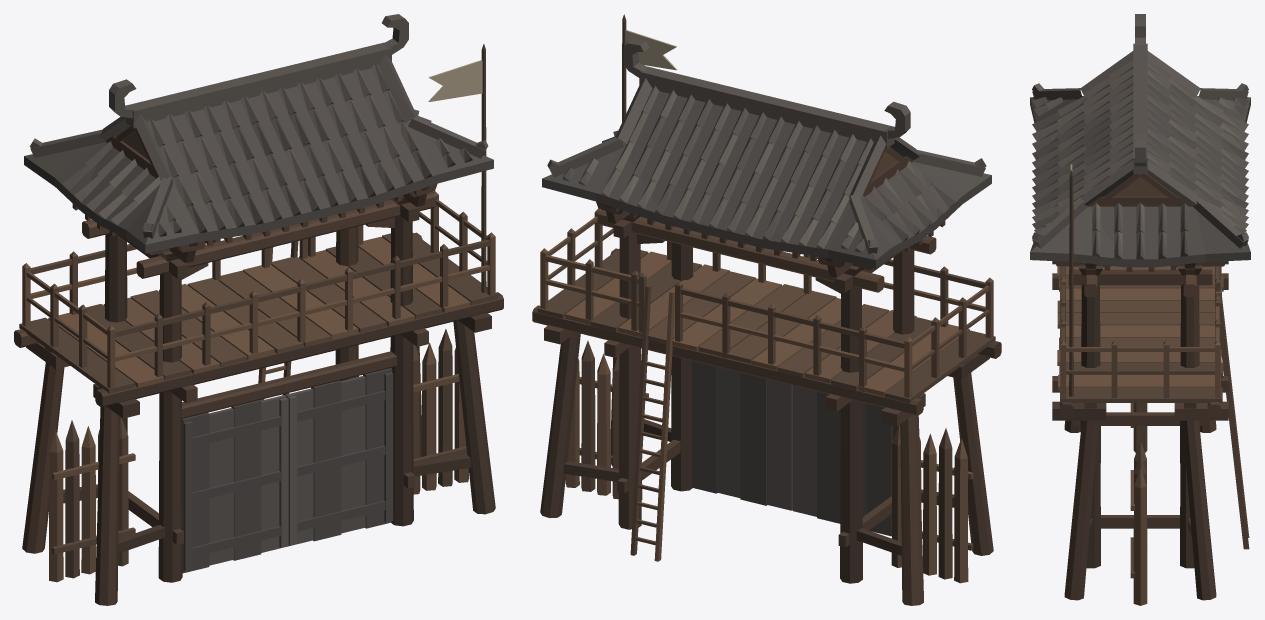
File: camp_gate.glb
The picture shows the model from 3 angles, left to right: view 1: azimuth 30°, elevation 25°; view 2: azimuth 150°, elevation 25°; view 3: azimuth 270°, elevation 25°; orthographic projection. The views are drawn at different scales.
Parts seen in each view (by area): view 1: camp-gate-frame, leaf-l-mesh, leaf-r-mesh, pennant-cloth; view 2: camp-gate-frame, leaf-r-mesh, leaf-l-mesh, ladder-mesh, pennant-cloth; view 3: camp-gate-frame, ladder-mesh.
Part boxes in pixels (x1,y1,x2,y2): camp-gate-frame: [14, 14, 503, 605]; leaf-l-mesh: [182, 395, 288, 573]; leaf-r-mesh: [285, 368, 393, 546]; pennant-cloth: [428, 60, 482, 101]; camp-gate-frame: [532, 14, 1001, 605]; leaf-r-mesh: [691, 361, 792, 510]; leaf-l-mesh: [792, 385, 892, 536]; ladder-mesh: [630, 285, 674, 561]; pennant-cloth: [625, 30, 677, 70]; camp-gate-frame: [1030, 14, 1250, 605]; ladder-mesh: [1216, 291, 1249, 549].
Bounding box in the file's own units: 8 × 8.72 × 4.
